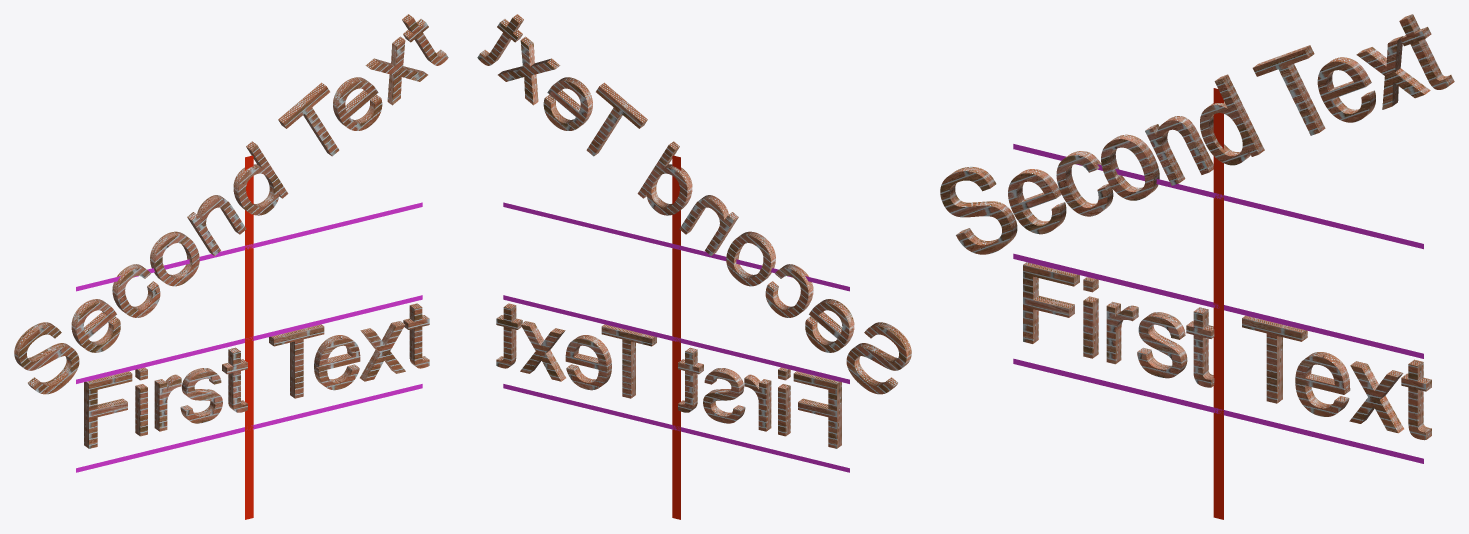
File: TwoText3.obj
3 renders of one model, left to right at view 1: azimuth 30°, elevation 25°; view 2: azimuth 150°, elevation 25°; view 3: azimuth 330°, elevation 25°, orthographic. The views are drawn at different scales.
Parts seen in each view (by area): view 1: object 1, _2; view 2: _1, _2, object 1; view 3: object 1, _2.
Part boxes in pixels (x1,y1,x2,y2): object 1: (19, 18, 448, 519); _2: (14, 14, 445, 448); _1: (477, 18, 906, 448); _2: (480, 14, 911, 448); object 1: (503, 155, 849, 519); object 1: (940, 18, 1448, 519); _2: (949, 14, 1454, 439).
Size of the model in its own units: 31.97 by 32.99 by 0.645.
10 materials, 6 textured.
